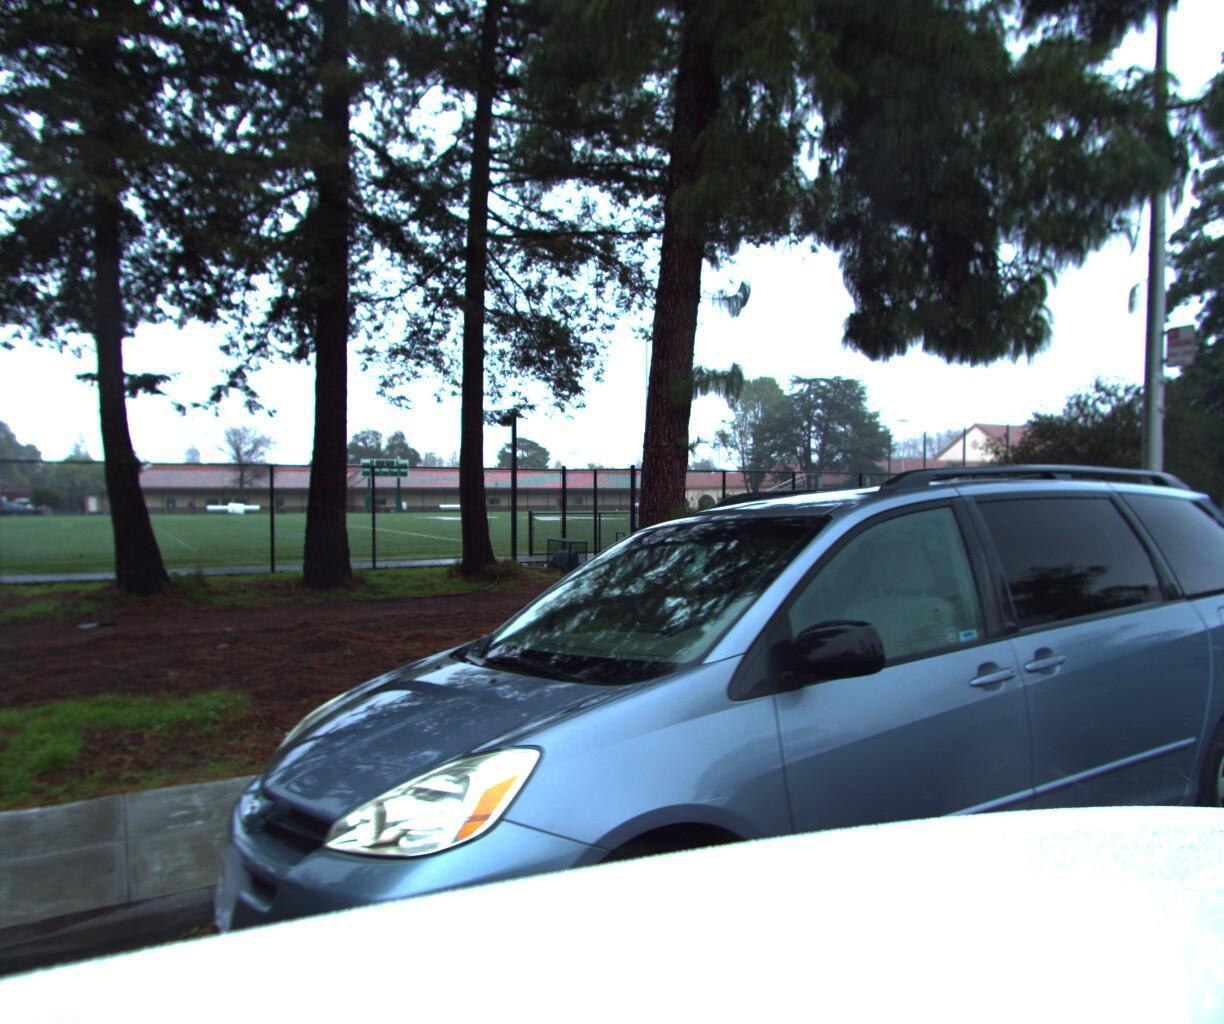car: (181, 418, 1224, 1024), (1130, 462, 1224, 785)
